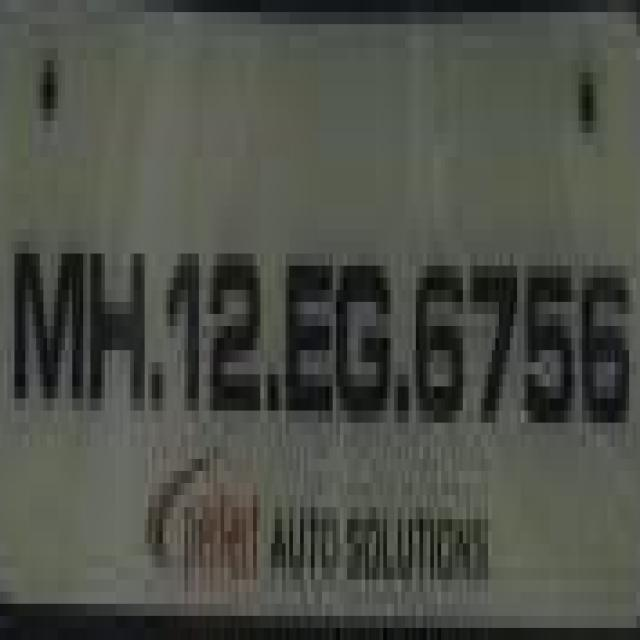license_plate: (4, 24, 604, 604)
